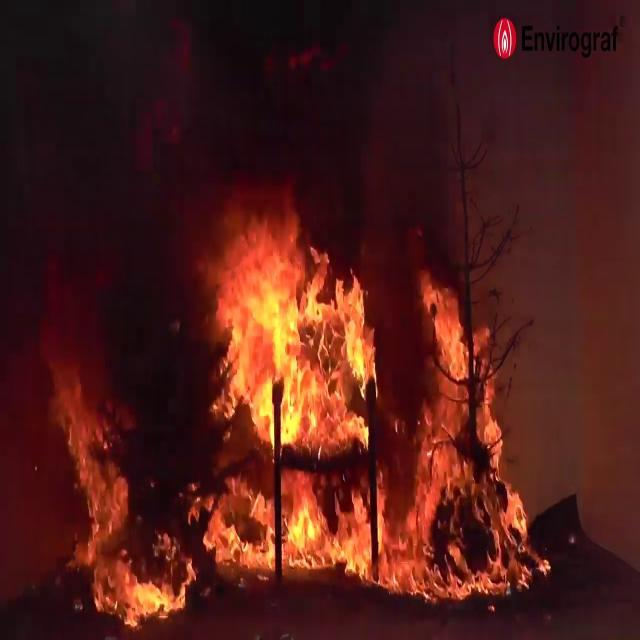Fire: (189, 185, 406, 574), (402, 266, 552, 608), (30, 350, 181, 638)
Smoke: (0, 0, 225, 368), (306, 0, 586, 253)
